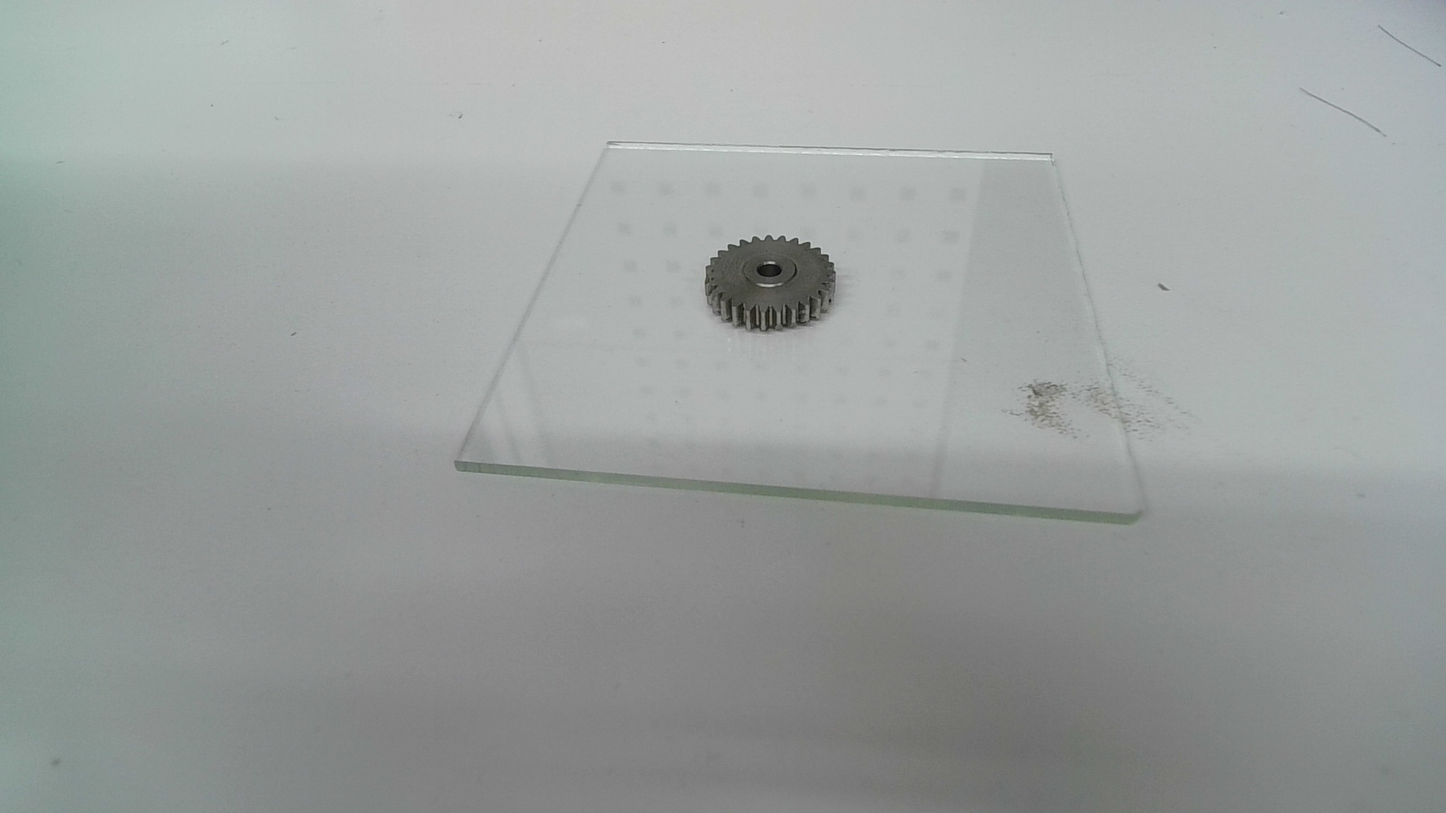gear: (702, 233, 839, 334)
